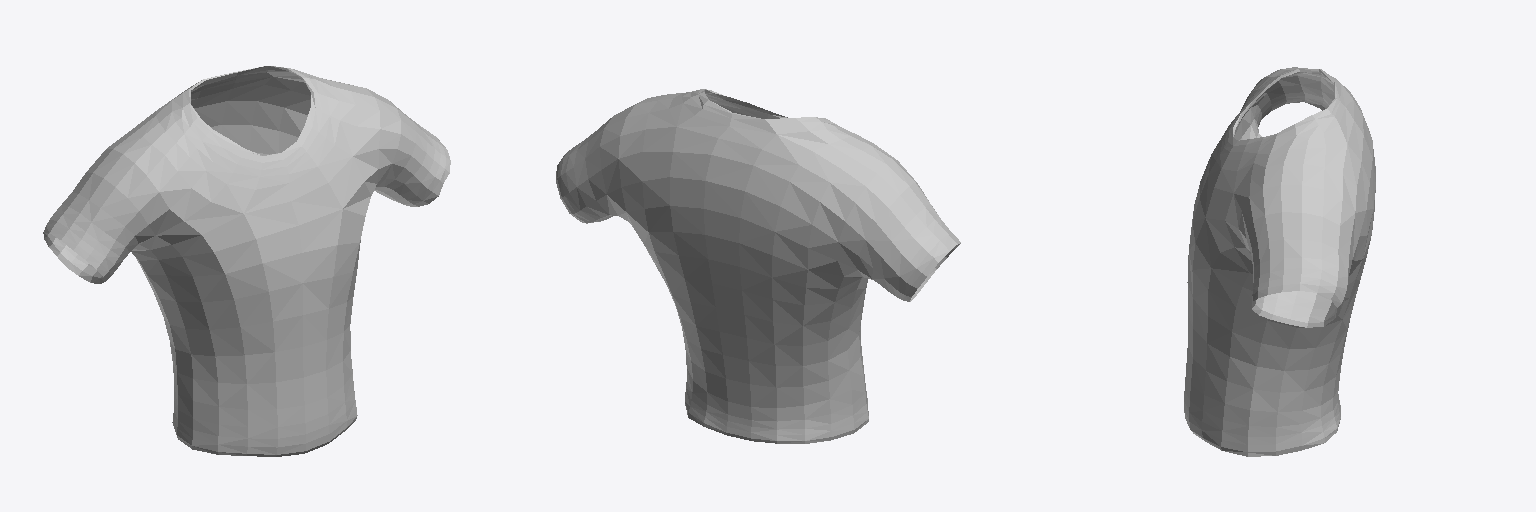
Rendered from shirt.obj.
The picture shows the model from 3 angles: view 1: azimuth 30°, elevation 25°; view 2: azimuth 150°, elevation 25°; view 3: azimuth 270°, elevation 25°; orthographic projection.
Parts seen in each view (by area): view 1: T_shirt_003_model; view 2: T_shirt_003_model; view 3: T_shirt_003_model.
Boxes of the visible parts, <box> form: T_shirt_003_model: <box>43,66,450,456</box>; T_shirt_003_model: <box>556,89,960,443</box>; T_shirt_003_model: <box>1184,67,1375,456</box>.
Size of the model in its own units: 38.71 by 31.36 by 16.56.